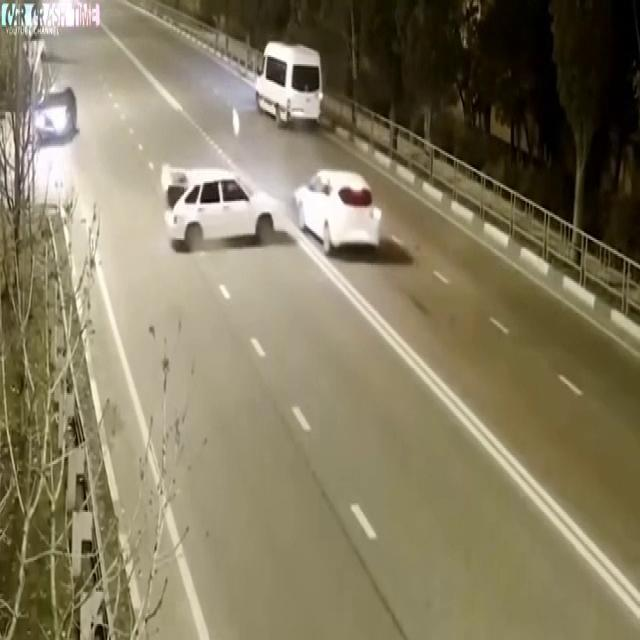accident: (158, 147, 397, 268)
